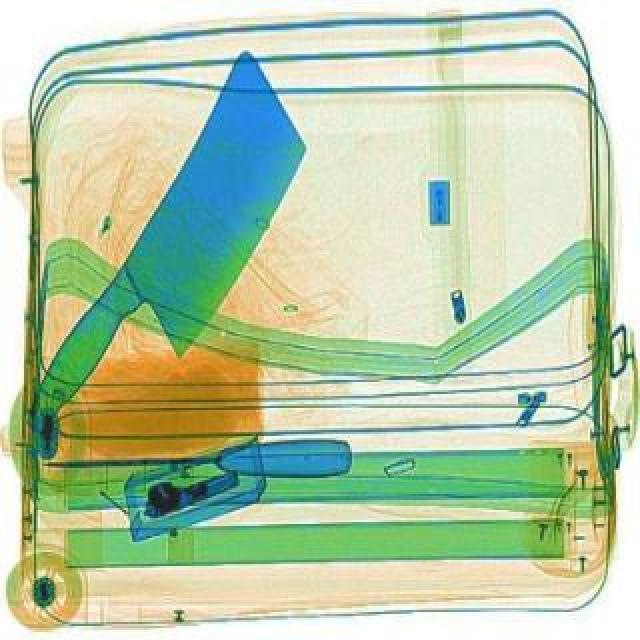gun: (124, 448, 244, 526)
knife: (6, 42, 346, 472), (42, 436, 350, 476)
